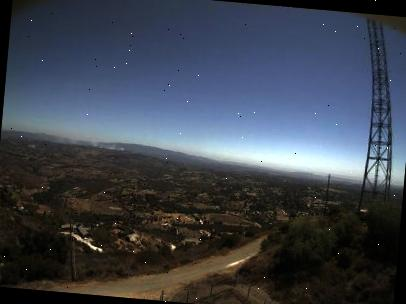smoke: (35, 126, 128, 151)
